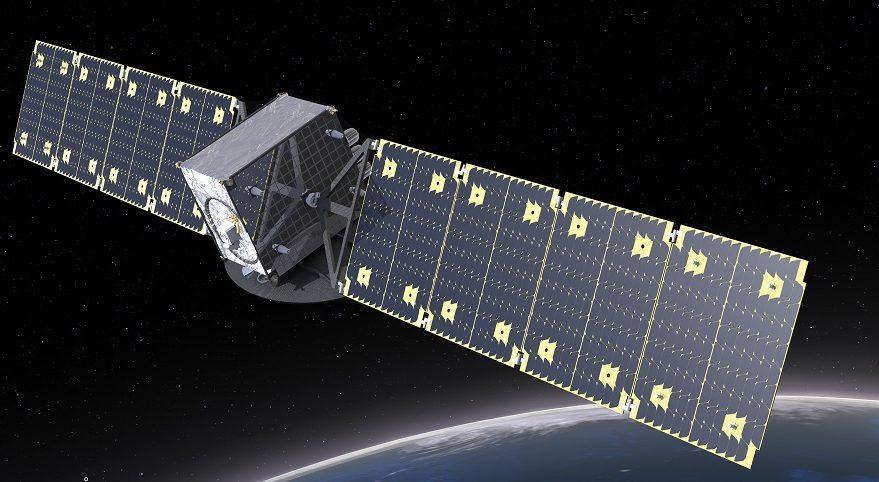antenna: (222, 227, 345, 305)
body: (178, 90, 378, 281)
solar: (341, 138, 812, 471), (10, 38, 240, 238)
